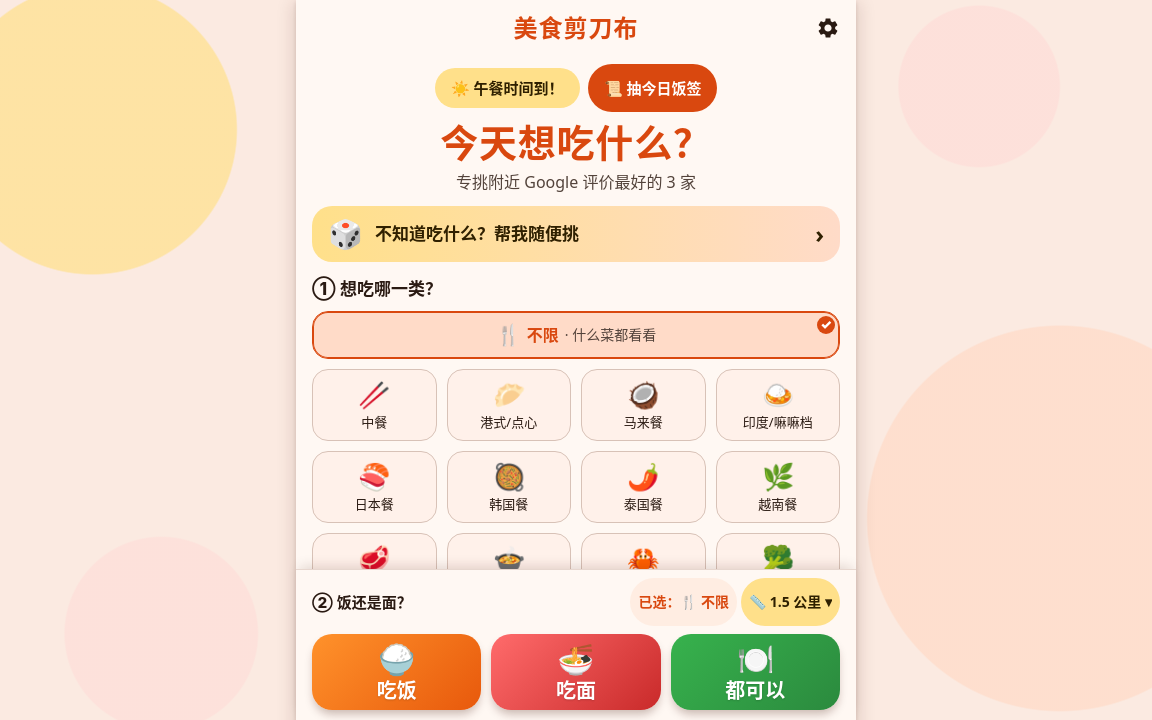
it: 📜 今日饭签（功能清单第六节） › WEB-19 发到群里比一比：没有分享面板就复制，提示「已经复制好了」；复制的是四行的纯文字
Click the button "📜 抽今日饭签": (652, 88) [588,64,717,112]
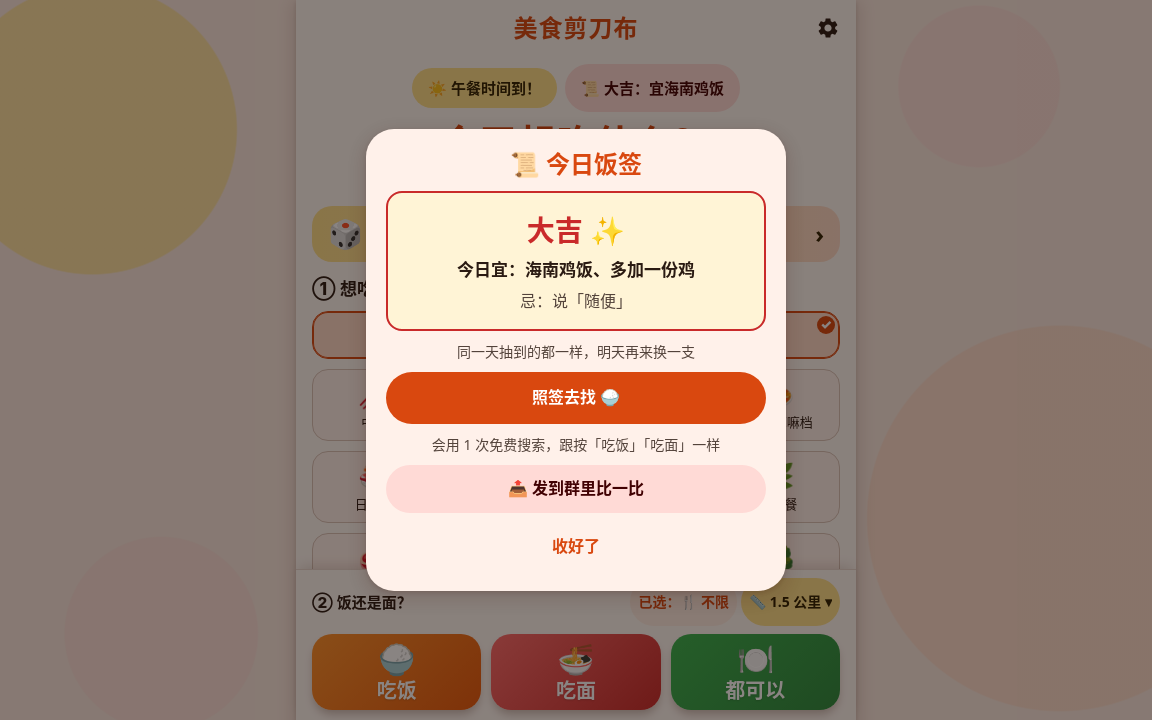
Click the button "📤 发到群里比一比": (576, 489) [386,465,766,513]
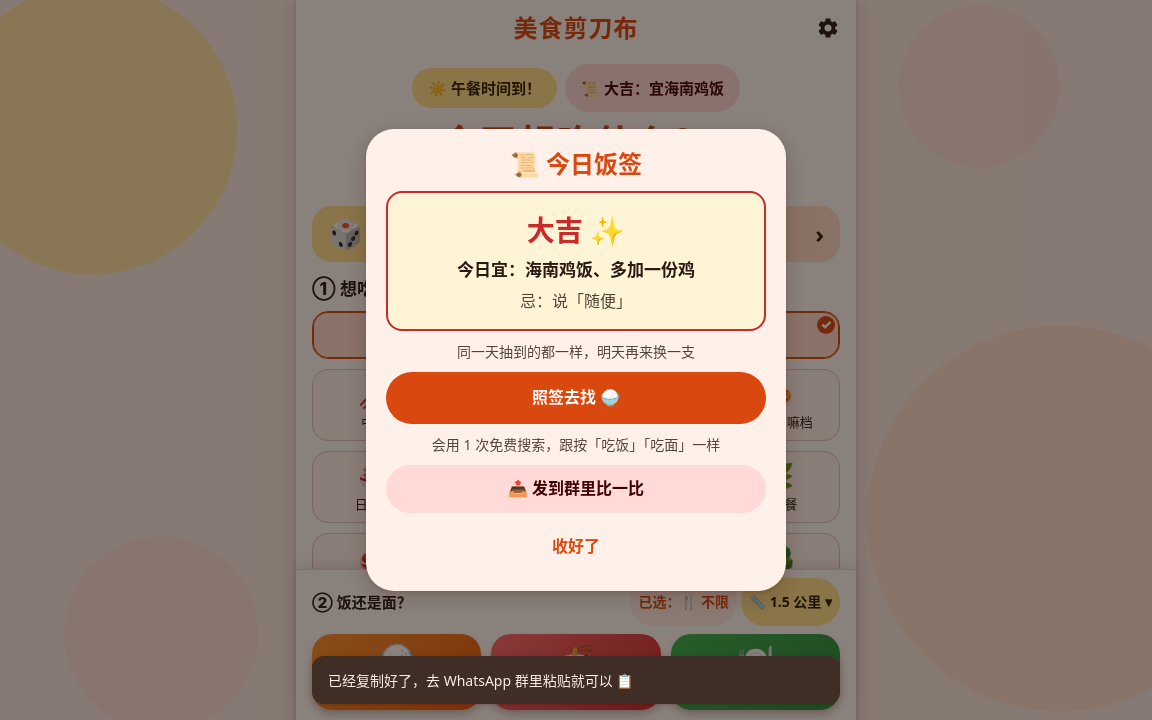
Check: the message reads "已经复制好了， 去 WhatsApp 群里粘贴就可以 📋", box [312,656,840,704]
